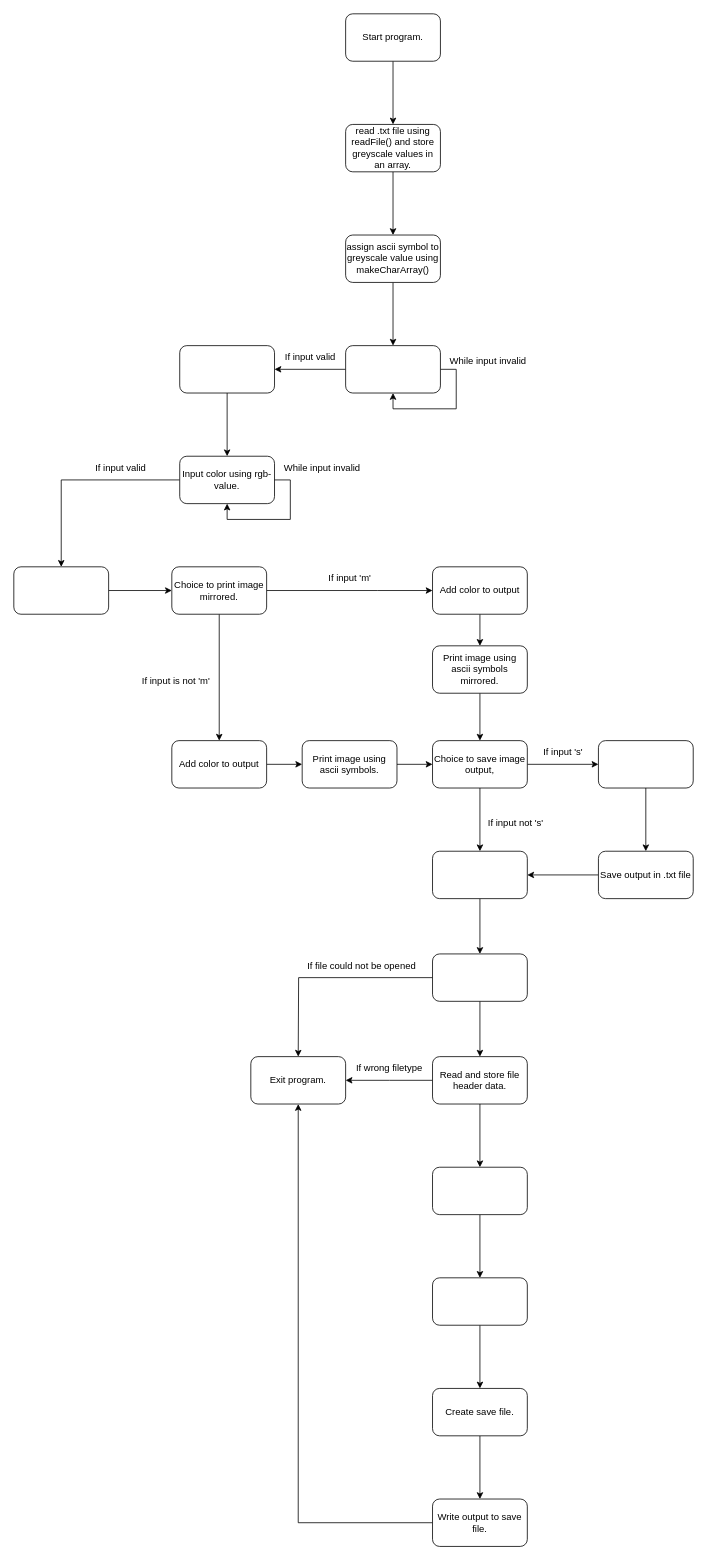
This 707x1560 diagram has some shape labels left out. Each missing label, with the box of its shape:
Input .bmp file: (432, 850, 527, 899)
Input name to save output as.: (598, 740, 693, 788)
Input range to display image.: (345, 345, 440, 393)
Open bitmap file.: (432, 953, 527, 1001)
Print average greyscale value within given range.: (13, 566, 109, 614)
Read and store image data.: (432, 1277, 527, 1325)
Read and store info header data.: (432, 1166, 527, 1215)
Store range inputs in variables.: (179, 345, 275, 393)
